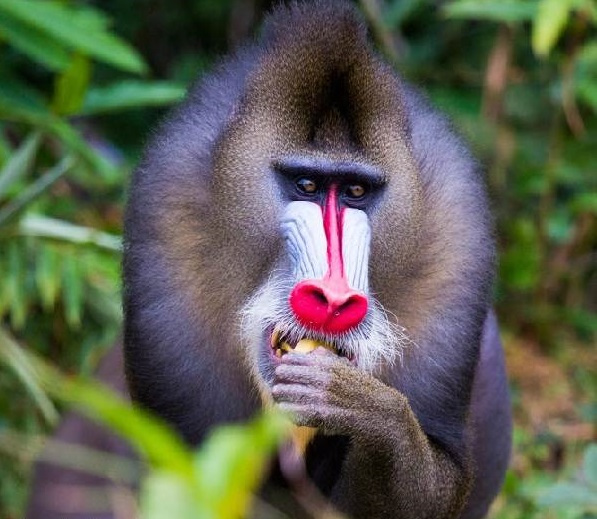Mandrill: (153, 29, 501, 491)
